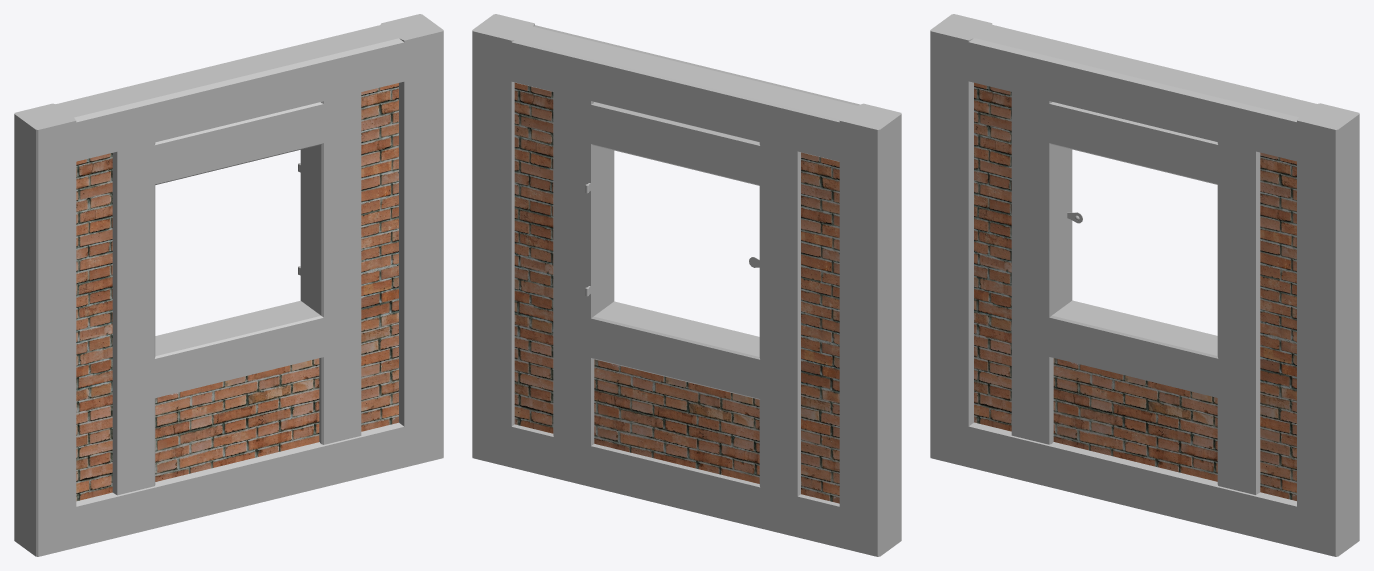
File: PlankShutterFrameBrick.fbx
The picture shows the model from 3 angles, left to right: view 1: azimuth 30°, elevation 25°; view 2: azimuth 150°, elevation 25°; view 3: azimuth 330°, elevation 25°; orthographic projection.
Visible parts, largest first — view 1: House Half Timber Window; view 2: House Half Timber Window; view 3: House Half Timber Window.
Part boxes in pixels (box(x1,y1,x2,y2)): House Half Timber Window: box(14, 14, 443, 556); House Half Timber Window: box(472, 14, 901, 556); House Half Timber Window: box(930, 14, 1359, 556).
Size of the model in its own units: 250 by 250 by 28.79.
